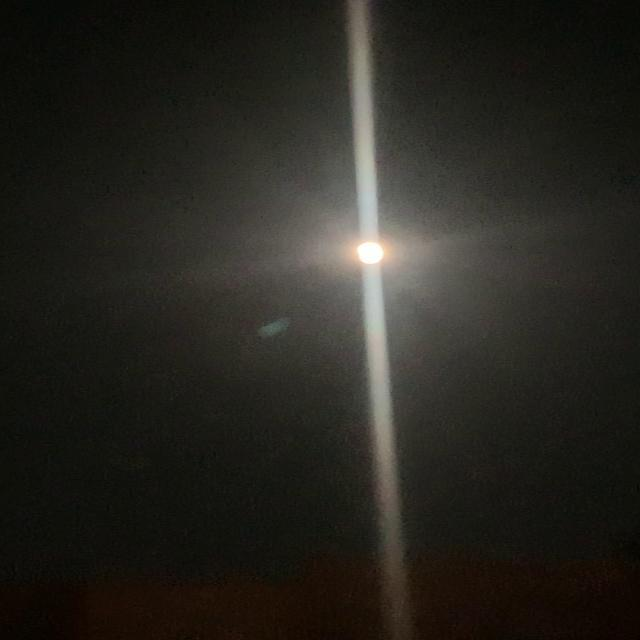moon: (338, 235, 408, 270)
